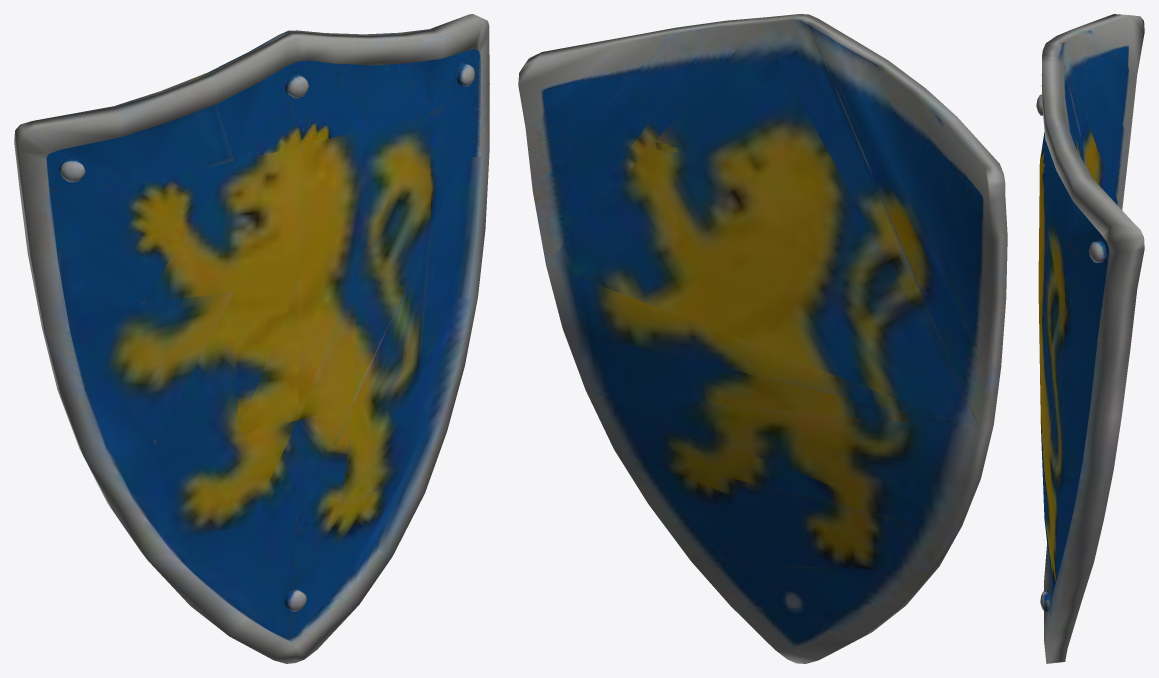
Rendered from shield_crest.fbx.
3 views of the same model, side by side, from view 1: azimuth 30°, elevation 25°; view 2: azimuth 150°, elevation 25°; view 3: azimuth 270°, elevation 25° (orthographic). The views are drawn at different scales.
Visible parts, largest first — view 1: tripo_node_dea360e6-eae5-4ea6-ac79-c9d07a36a104; view 2: tripo_node_dea360e6-eae5-4ea6-ac79-c9d07a36a104; view 3: tripo_node_dea360e6-eae5-4ea6-ac79-c9d07a36a104.
Part boxes in pixels (x1,y1,x2,y2): tripo_node_dea360e6-eae5-4ea6-ac79-c9d07a36a104: [14, 14, 489, 663]; tripo_node_dea360e6-eae5-4ea6-ac79-c9d07a36a104: [518, 14, 1007, 663]; tripo_node_dea360e6-eae5-4ea6-ac79-c9d07a36a104: [1036, 14, 1144, 663].
Size of the model in its own units: 0.7467 by 0.95 by 0.1545.
Materials: 1 (1 with a texture image).
